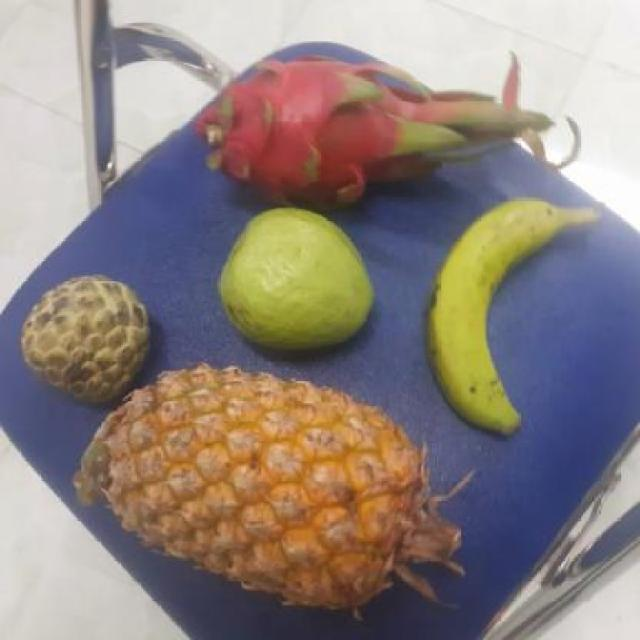banana: (432, 201, 580, 433)
dragon fruit: (205, 52, 444, 212)
guava: (219, 211, 379, 351)
pineapple: (98, 366, 454, 596)
sugar apple: (21, 276, 162, 406)
